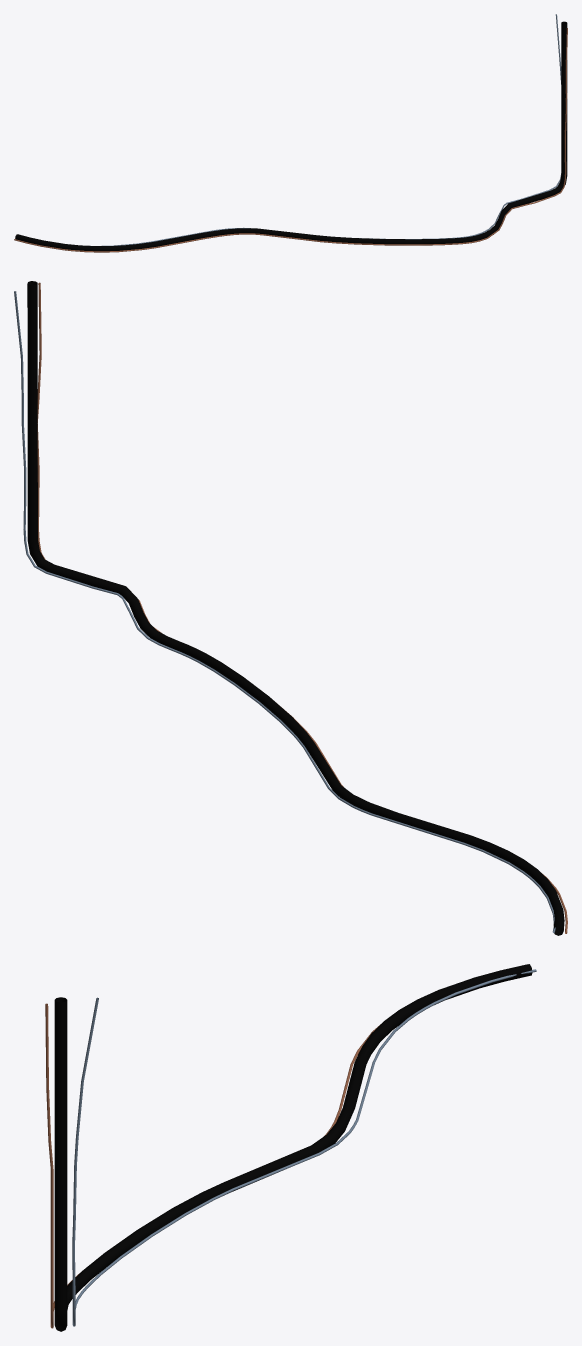
Rendered from wires.fbx.
3 renders of one model, top to bottom at view 1: azimuth 30°, elevation 25°; view 2: azimuth 150°, elevation 25°; view 3: azimuth 270°, elevation 25°, orthographic. The views are drawn at different scales.
Visible parts, largest first — view 1: wires; view 2: wires; view 3: wires.
Boxes of the visible parts, x1,y1,x2,y2 form: wires: (14, 14, 567, 252); wires: (14, 281, 567, 935); wires: (45, 964, 536, 1331).
Bounding box in the file's own units: 29.03 × 14.13 × 12.64.
